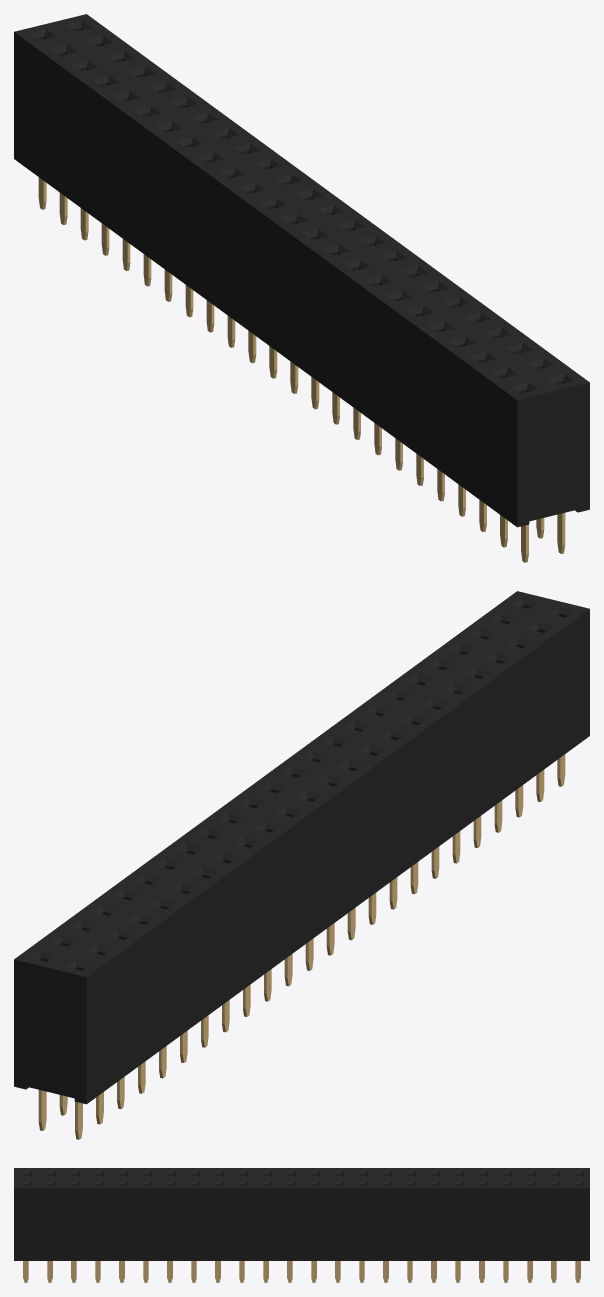
Rendered from kc-pinsocket_2x24_p2.54mm_vertical.glb.
3 views of the same model, one above another, from view 1: azimuth 30°, elevation 25°; view 2: azimuth 150°, elevation 25°; view 3: azimuth 270°, elevation 25° (orthographic). The views are drawn at different scales.
Visible parts, largest first — view 1: 0_0_0_0, 0.75_0.5_0.25_0.9; view 2: 0_0_0_0, 0.75_0.5_0.25_0.9; view 3: 0_0_0_0, 0.75_0.5_0.25_0.9.
Part boxes in pixels (left/top/right/bottom): 0_0_0_0: left=14, top=14, right=589, bottom=527; 0.75_0.5_0.25_0.9: left=38, top=177, right=565, bottom=562; 0_0_0_0: left=14, top=591, right=589, bottom=1104; 0.75_0.5_0.25_0.9: left=38, top=754, right=565, bottom=1139; 0_0_0_0: left=14, top=1168, right=589, bottom=1260; 0.75_0.5_0.25_0.9: left=23, top=1261, right=580, bottom=1282.
Size of the model in its own units: 0.5083 by 1.16 by 6.1.
